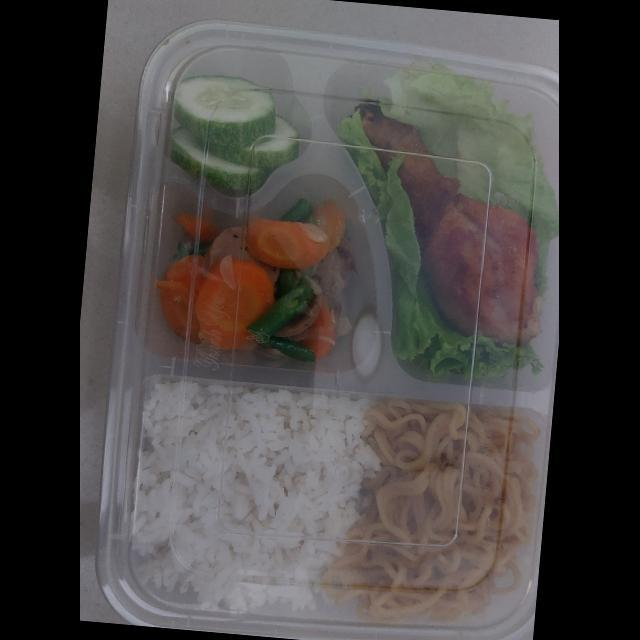bento: (80, 6, 560, 640)
